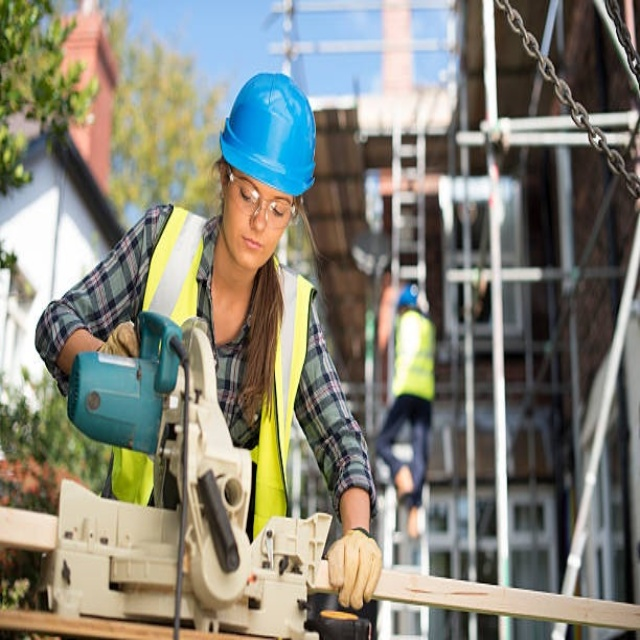Gafas: (227, 167, 296, 229)
Guantes: (326, 525, 383, 609), (99, 321, 140, 359)
Sin_mascara: (233, 231, 269, 267)
